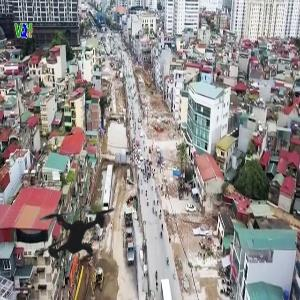drone: (11, 168, 141, 298)
